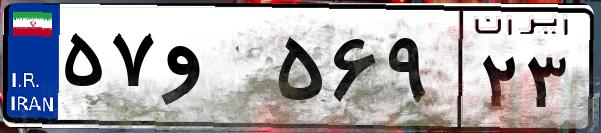2: (475, 38, 525, 113)
3: (525, 38, 570, 115)
5: (270, 28, 330, 110), (57, 26, 110, 100)
6: (330, 28, 385, 110)
7: (110, 28, 158, 98)
9: (385, 28, 445, 110)
و: (158, 20, 270, 120)
